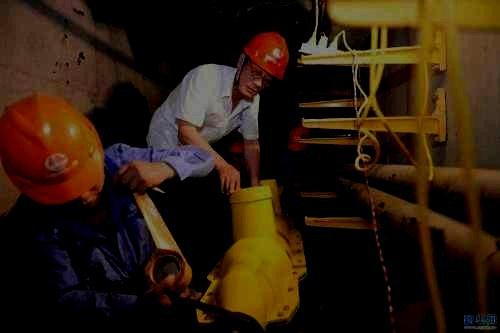helmet: (1, 91, 105, 208), (237, 31, 288, 99)
